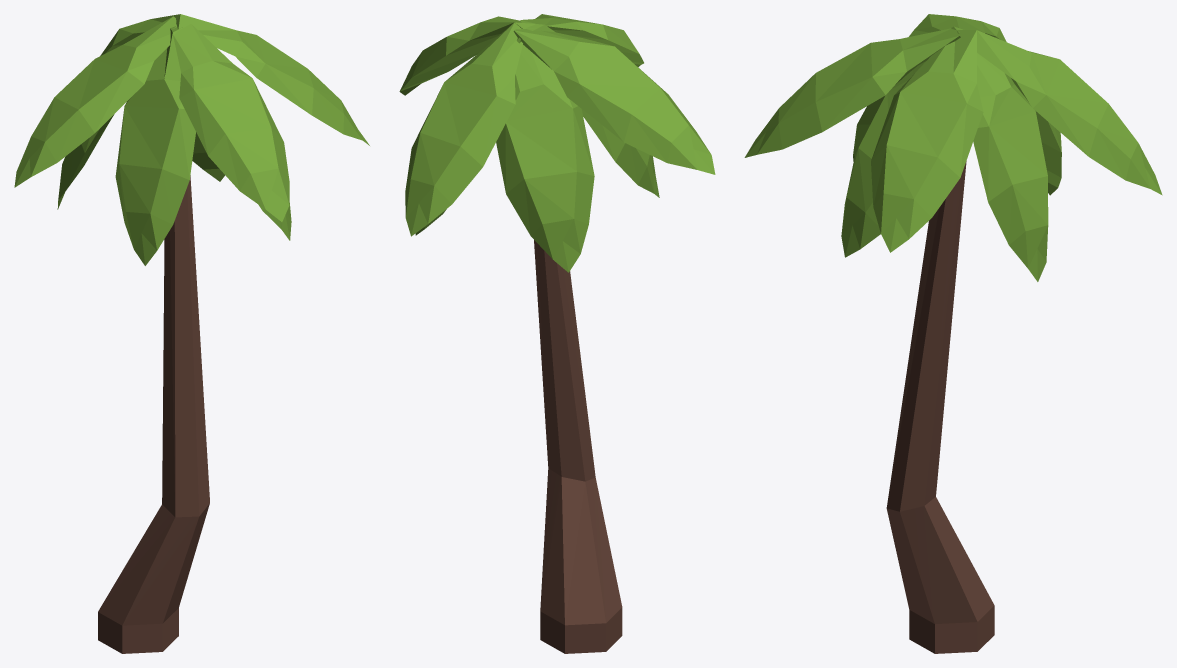
File: palmtree2.glb
The picture shows the model from 3 angles, left to right: view 1: azimuth 30°, elevation 25°; view 2: azimuth 150°, elevation 25°; view 3: azimuth 270°, elevation 25°; orthographic projection. The views are drawn at different scales.
Parts seen in each view (by area): view 1: node_MeshObject-1510690048-PolyPaper20; view 2: node_MeshObject-1510690048-PolyPaper20; view 3: node_MeshObject-1510690048-PolyPaper20.
Boxes of the visible parts, <box> form: node_MeshObject-1510690048-PolyPaper20: <box>14,14,369,653</box>; node_MeshObject-1510690048-PolyPaper20: <box>399,14,715,653</box>; node_MeshObject-1510690048-PolyPaper20: <box>744,14,1162,653</box>.
Bounding box in the file's own units: 0.2345 × 0.4078 × 0.2434.
